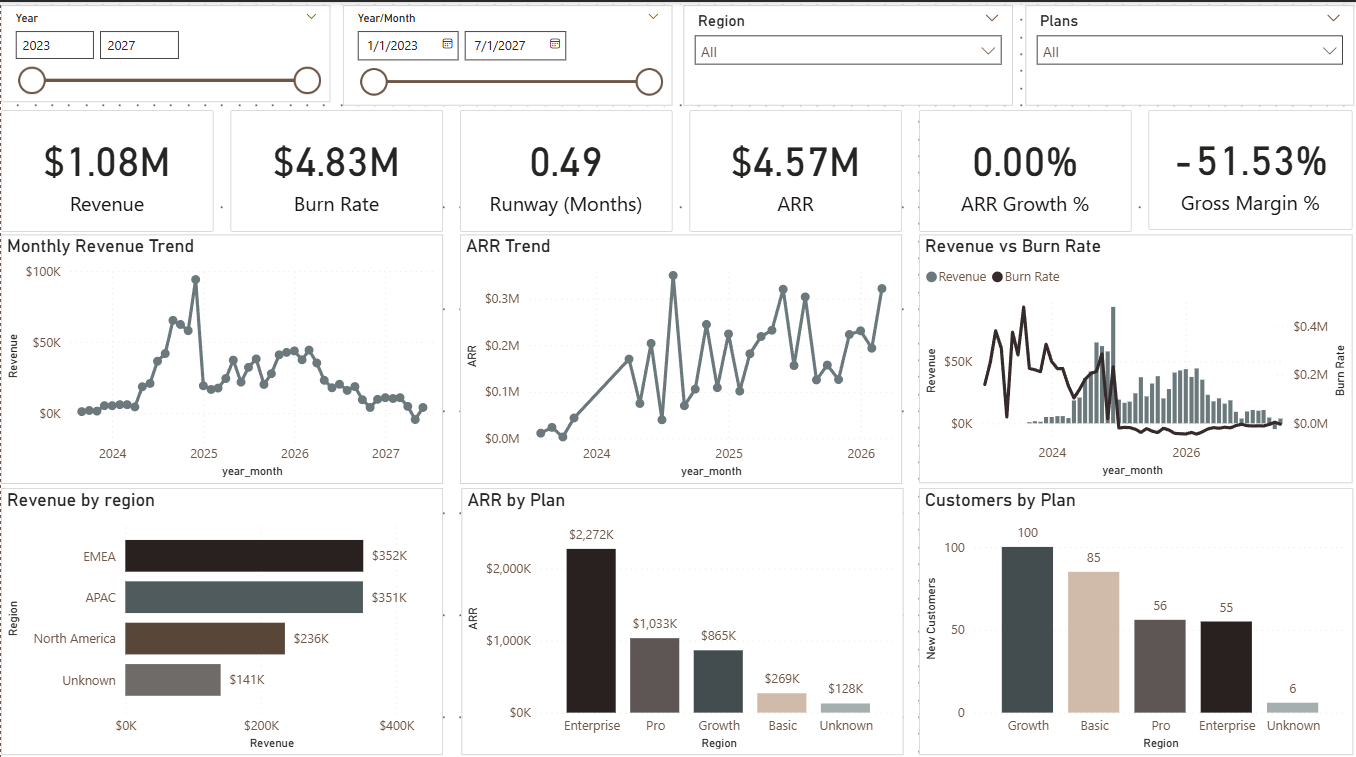

What the dashboard file says about the page in this screenshot:
{"tool":"powerbi","page":{"name":"Executive Overview","canvas":[1280,720],"ordinal":0},"visuals":[{"type":"group","id":"g1","title":"Group 1","box":[0,102.1,1272.4,112.8],"z":0},{"type":"card","title":"REVENUE","fields":{"Values":["_key_metrics.Revenue"]},"box":[0,102.1,200.1,114.9],"z":0,"group":"g1"},{"type":"slicer","fields":{"Values":["dim_month.year"]},"box":[0,3.2,310,91.4],"z":1000,"group":"g3"},{"type":"card","title":"REVENUE","fields":{"Values":["_key_metrics.ARR"]},"box":[648.2,102.1,200.1,114.9],"z":1000,"group":"g1"},{"type":"lineChart","title":"Monthly Revenue Trend","fields":{"Y":["_key_metrics.Revenue"],"Category":["dim_month.year_month"]},"box":[0,219.4,416.1,234.7],"z":1000,"group":"g2"},{"type":"card","title":"REVENUE","fields":{"Values":["_key_metrics.ARR Growth %"]},"box":[864.3,102.1,200.1,114.9],"z":2000,"group":"g1"},{"type":"group","id":"g2","title":"Group 2","box":[0,219.4,1272.4,233.1],"z":2000},{"type":"lineChart","title":"ARR Trend","fields":{"Y":["_key_metrics.ARR"],"Category":["dim_month.year_month"]},"box":[432.1,219.4,416.1,234.7],"z":2000,"group":"g2"},{"type":"card","title":"REVENUE","fields":{"Values":["_key_metrics.Gross Margin %"]},"box":[1080.3,102.1,192.1,112.8],"z":3000,"group":"g1"},{"type":"lineClusteredColumnComboChart","title":"Revenue vs Burn Rate","fields":{"Y":["_key_metrics.Revenue"],"Y2":["_key_metrics.Burn Rate"],"Category":["dim_month.year_month"]},"box":[864.3,219.8,408.1,233.9],"z":3000,"group":"g2"},{"type":"clusteredBarChart","fields":{"Category":["dim_customer.region"],"Y":["_key_metrics.Revenue"]},"box":[0,457.1,416,251.4],"z":3000},{"type":"card","title":"REVENUE","fields":{"Values":["_key_metrics.Burn Rate"]},"box":[216.1,102.1,200.1,114.9],"z":4000,"group":"g1"},{"type":"clusteredColumnChart","title":"ARR by Plan","fields":{"Category":["dim_plan.plan_name"],"Y":["_key_metrics.ARR"]},"box":[432.8,457.1,416,251.4],"z":4000},{"type":"card","title":"REVENUE","fields":{"Values":["_key_metrics.Runway (Months)"]},"box":[432.1,102.1,200.1,114.9],"z":5000,"group":"g1"},{"type":"clusteredColumnChart","title":"Customers by Plan","fields":{"Category":["dim_plan.plan_name"],"Y":["_key_metrics.New Customers"]},"box":[864,457.1,408.4,251.4],"z":5000},{"type":"slicer","fields":{"Values":["dim_month.year_month"]},"box":[321.5,3.2,310,94.5],"z":5001,"group":"g3"},{"type":"slicer","fields":{"Values":["dim_customer.region"]},"box":[643,3.2,310,94.5],"z":5002,"group":"g3"},{"type":"slicer","fields":{"Values":["dim_plan.plan_name"]},"box":[964.6,3.2,309.3,94.5],"z":5003,"group":"g3"},{"type":"group","id":"g3","title":"Group 3","box":[0,3.2,1273.9,94.5],"z":5004}]}

Visuals, with their boxes in screenshot pixels (x1, y1, x2, y2), scaled from the page's 1280x720 canvas onto the 1356x757 screenshot:
"Group 1" group: Rect(0, 107, 1348, 226)
"REVENUE" card: Rect(0, 107, 212, 228)
slicer - dim_month.year: Rect(0, 3, 328, 99)
"REVENUE" card: Rect(687, 107, 899, 228)
"Monthly Revenue Trend" lineChart: Rect(0, 231, 441, 477)
"REVENUE" card: Rect(916, 107, 1128, 228)
"Group 2" group: Rect(0, 231, 1348, 476)
"ARR Trend" lineChart: Rect(458, 231, 899, 477)
"REVENUE" card: Rect(1144, 107, 1348, 226)
"Revenue vs Burn Rate" lineClusteredColumnComboChart: Rect(916, 231, 1348, 477)
clusteredBarChart - dim_customer.region x _key_metrics.Revenue: Rect(0, 481, 441, 745)
"REVENUE" card: Rect(229, 107, 441, 228)
"ARR by Plan" clusteredColumnChart: Rect(458, 481, 899, 745)
"REVENUE" card: Rect(458, 107, 670, 228)
"Customers by Plan" clusteredColumnChart: Rect(915, 481, 1348, 745)
slicer - dim_month.year_month: Rect(341, 3, 669, 103)
slicer - dim_customer.region: Rect(681, 3, 1010, 103)
slicer - dim_plan.plan_name: Rect(1022, 3, 1350, 103)
"Group 3" group: Rect(0, 3, 1350, 103)
